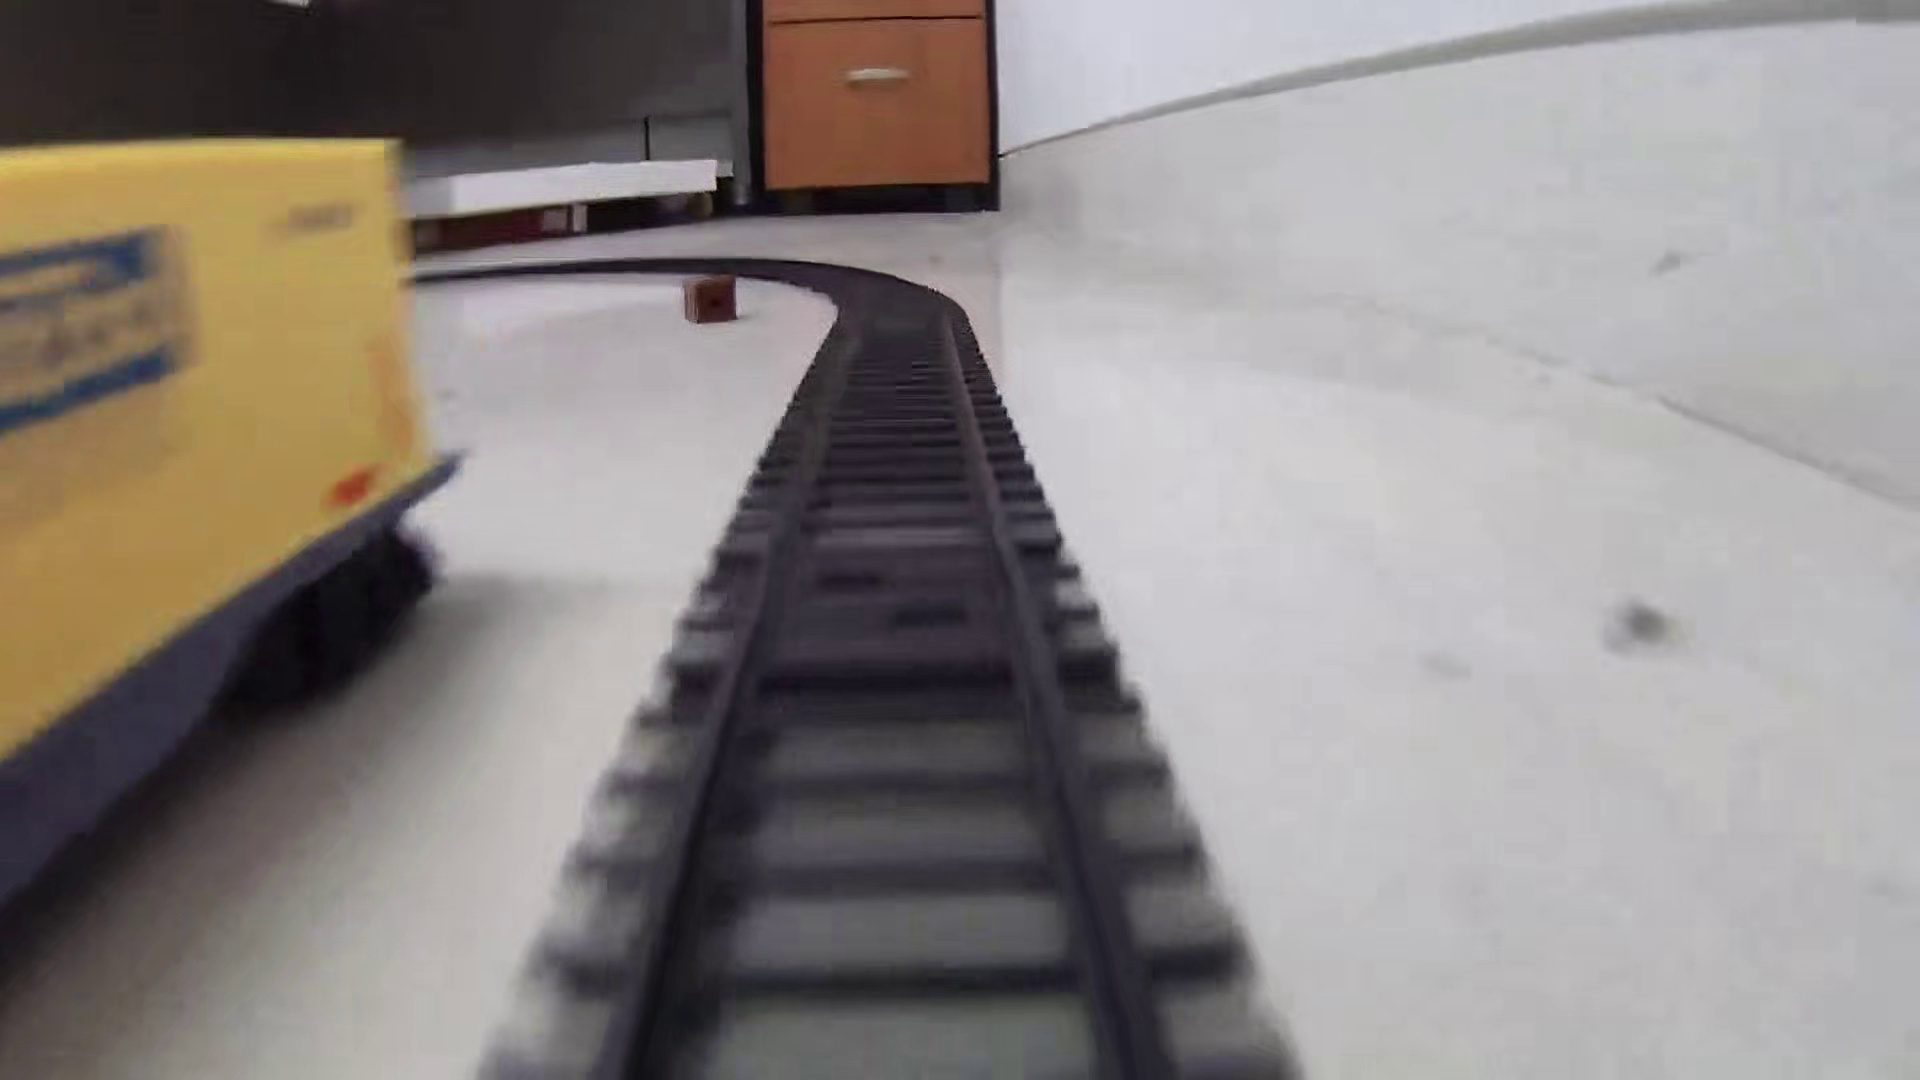box: (682, 271, 740, 325)
